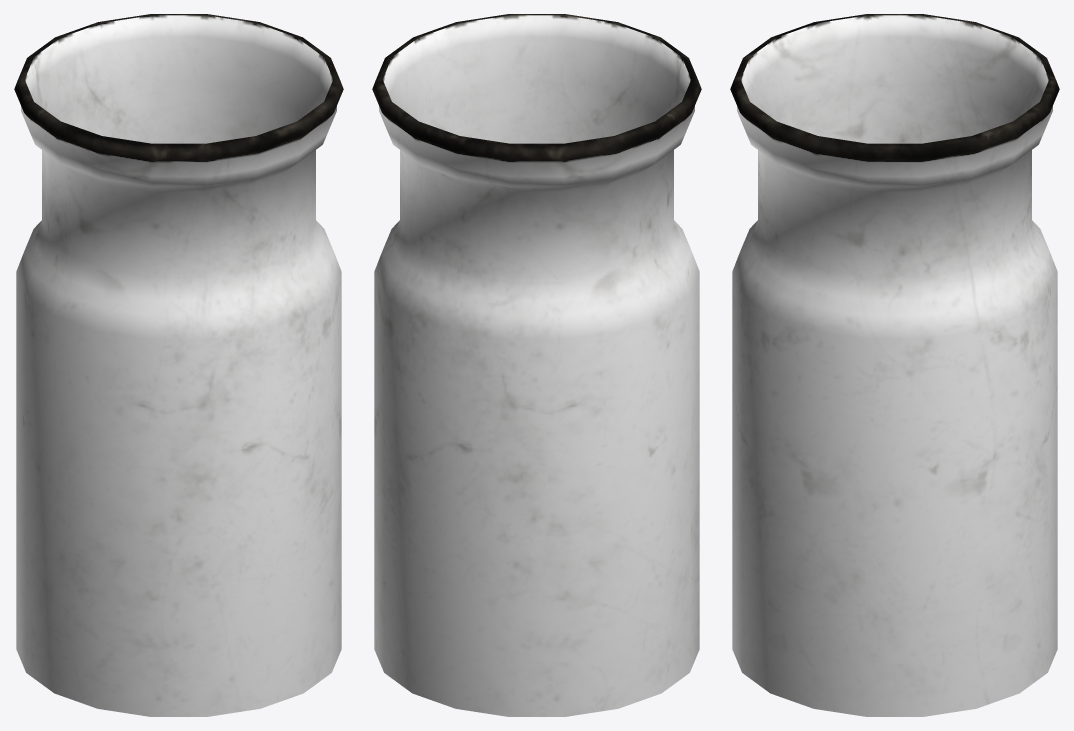
Rendered from Steel_Cup_Large.FBX.
3 renders of one model, left to right at view 1: azimuth 30°, elevation 25°; view 2: azimuth 150°, elevation 25°; view 3: azimuth 270°, elevation 25°, orthographic.
Visible parts, largest first — view 1: Steel_Cup_Large; view 2: Steel_Cup_Large; view 3: Steel_Cup_Large.
Boxes of the visible parts, left/top/right/bottom form: Steel_Cup_Large: left=14, top=14, right=343, bottom=716; Steel_Cup_Large: left=372, top=14, right=701, bottom=716; Steel_Cup_Large: left=730, top=14, right=1059, bottom=716.
Size of the model in its own units: 20.28 by 20.6 by 39.29.
